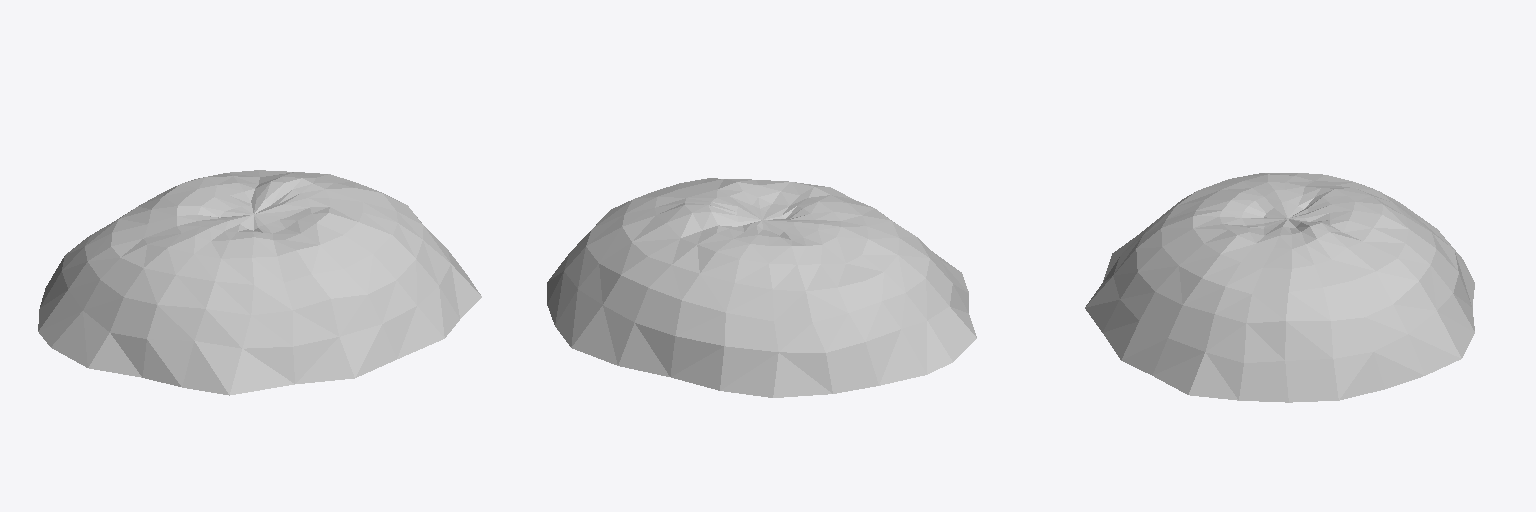
File: anthill.obj
3 renders of one model, left to right at view 1: azimuth 30°, elevation 25°; view 2: azimuth 150°, elevation 25°; view 3: azimuth 270°, elevation 25°, orthographic.
Visible parts, largest first — view 1: Cylinder_Cylinder.003; view 2: Cylinder_Cylinder.003; view 3: Cylinder_Cylinder.003.
Part boxes in pixels (left/top/right/bottom): Cylinder_Cylinder.003: left=38, top=170, right=481, bottom=395; Cylinder_Cylinder.003: left=547, top=178, right=976, bottom=397; Cylinder_Cylinder.003: left=1085, top=173, right=1474, bottom=402.
Bounding box in the file's own units: 7.24 × 1.82 × 6.27.